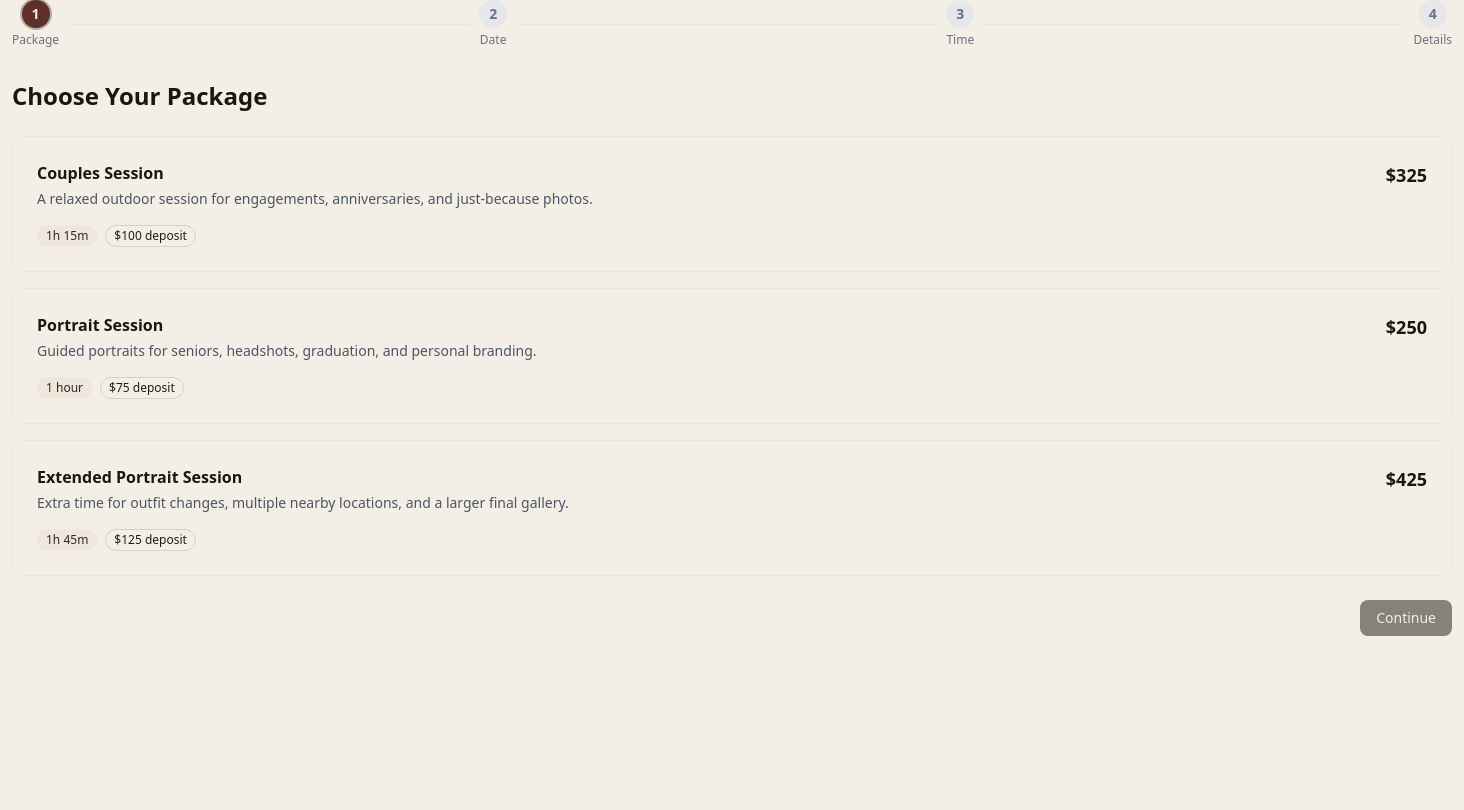
Scenario: PhotographyBookingForm — PHOTO-03: multi-step booking flow › advances from step 3 to step 4 (details) when a time slot is selected
Click the heading "Portrait Session": (100, 325) [37,314,163,336]
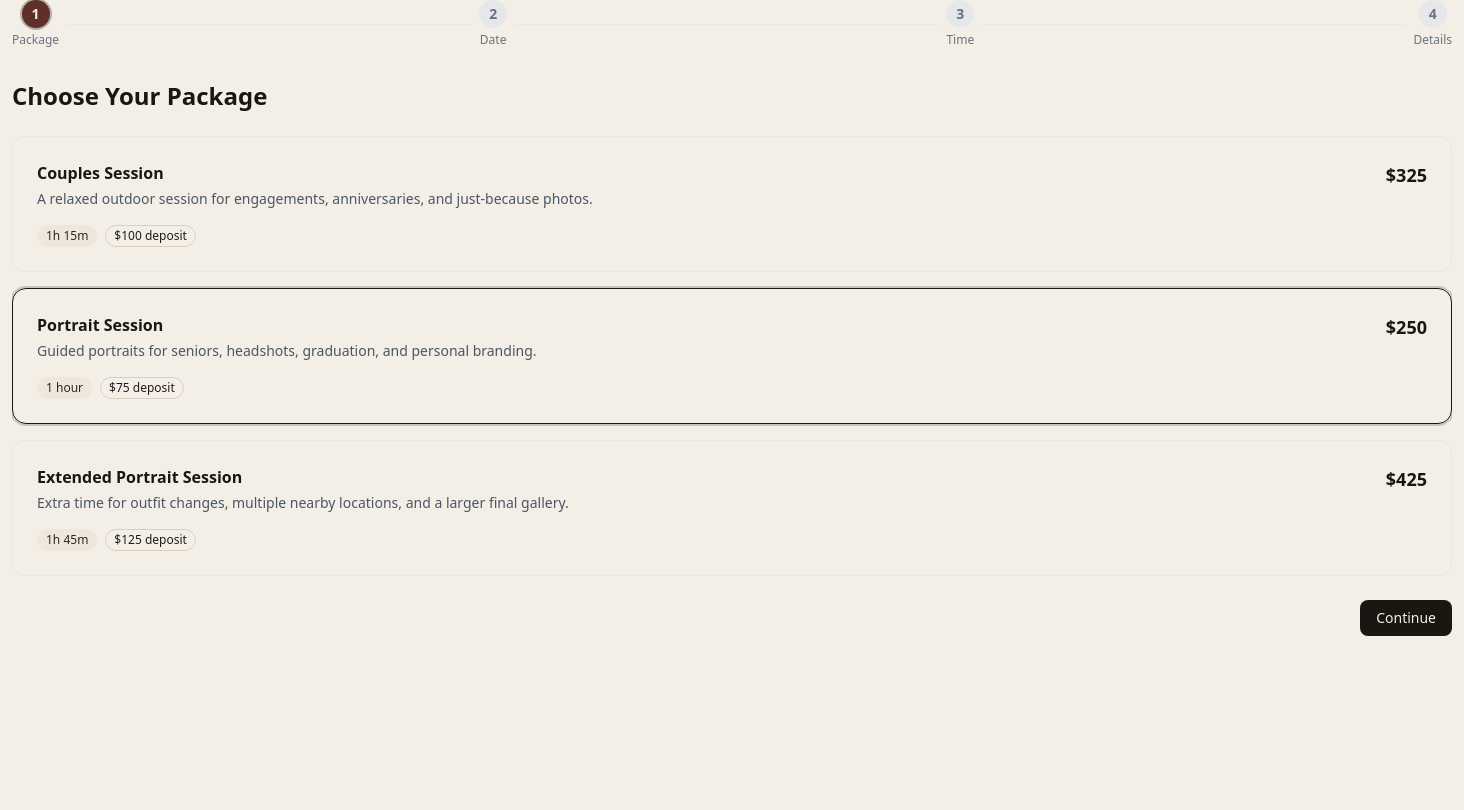
Click the button "Continue": (1406, 618) [1360,600,1452,636]
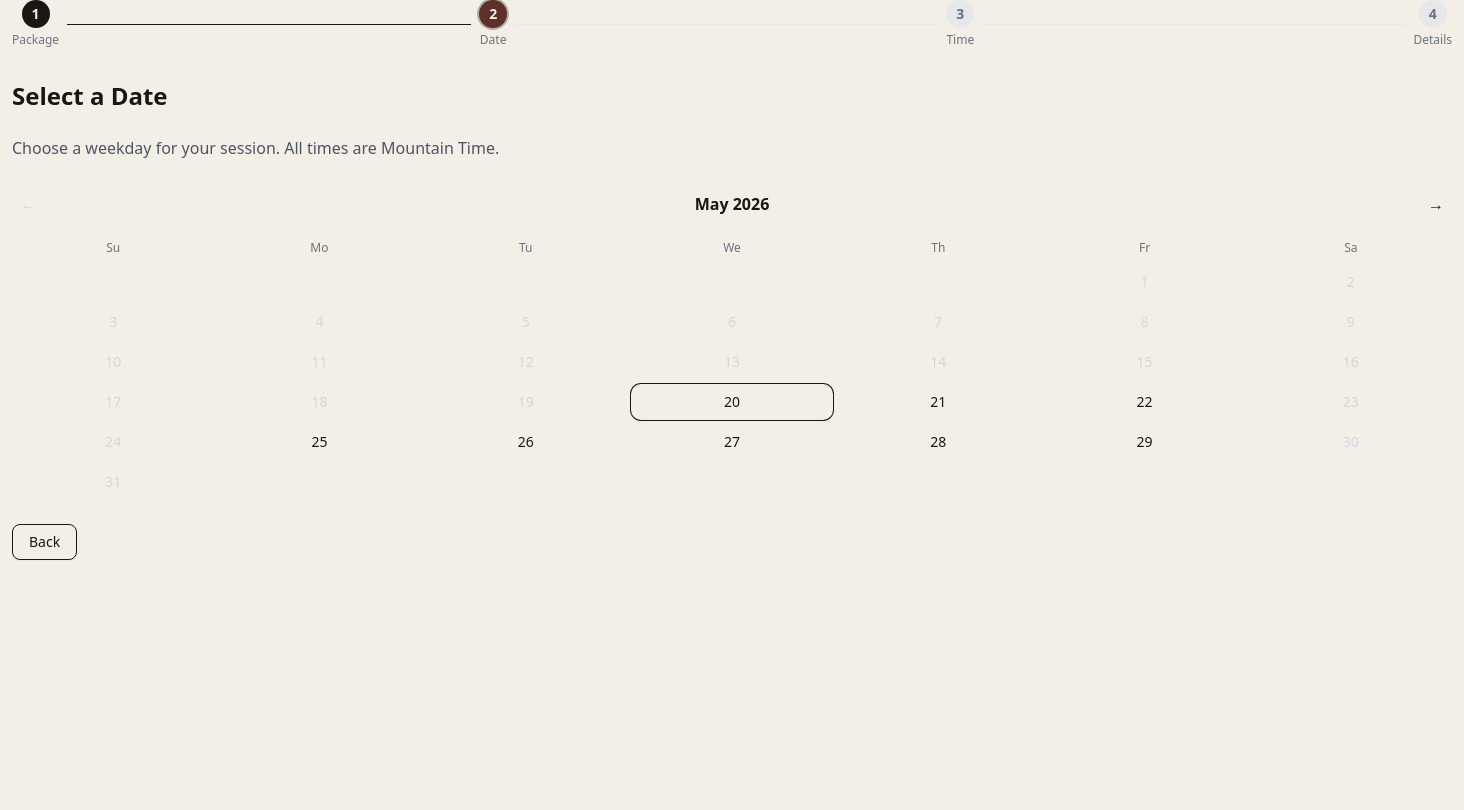
Click the button "20": (732, 402) [631,384,833,420]
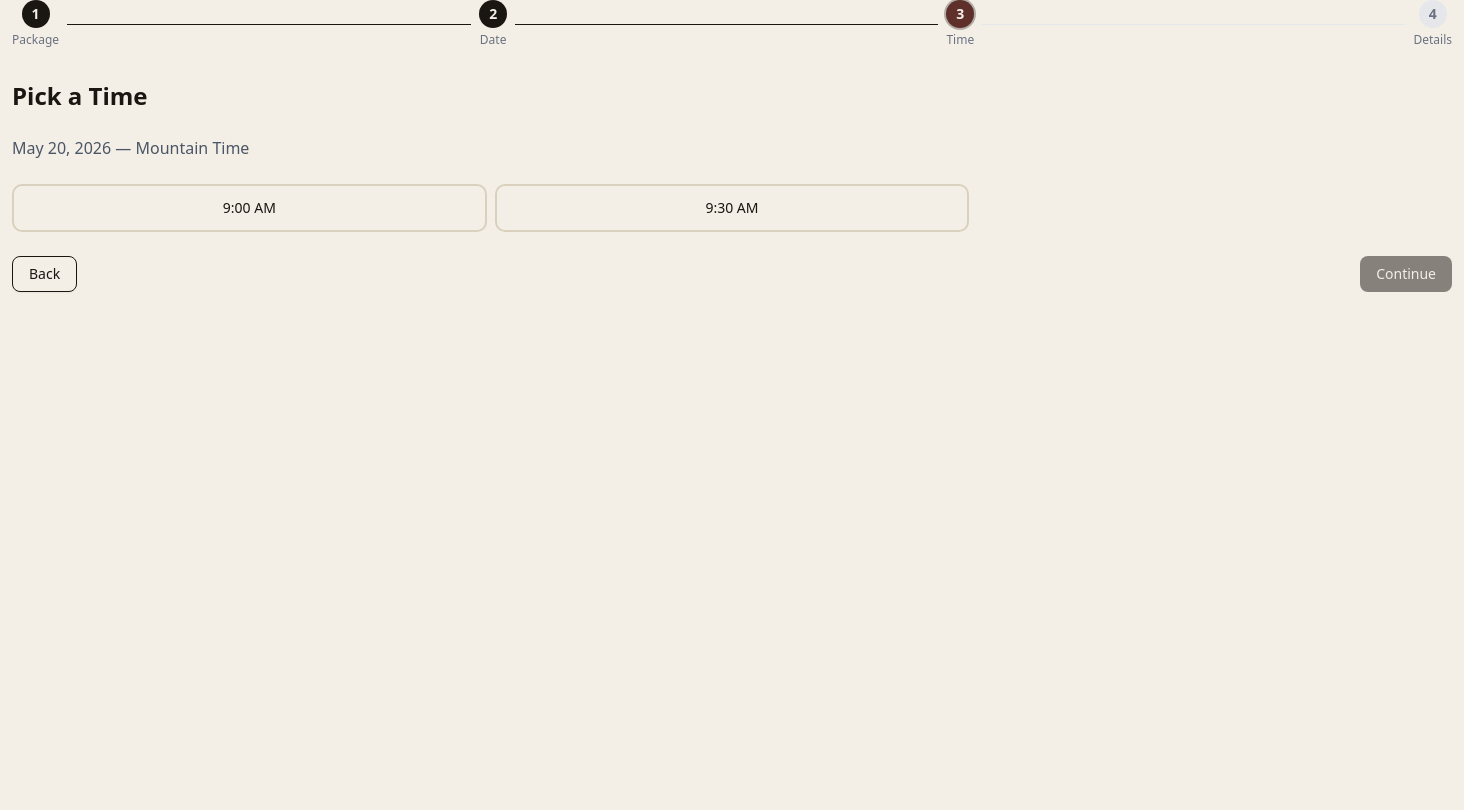
Click the button "9:00 AM": (249, 208) [12,184,487,232]
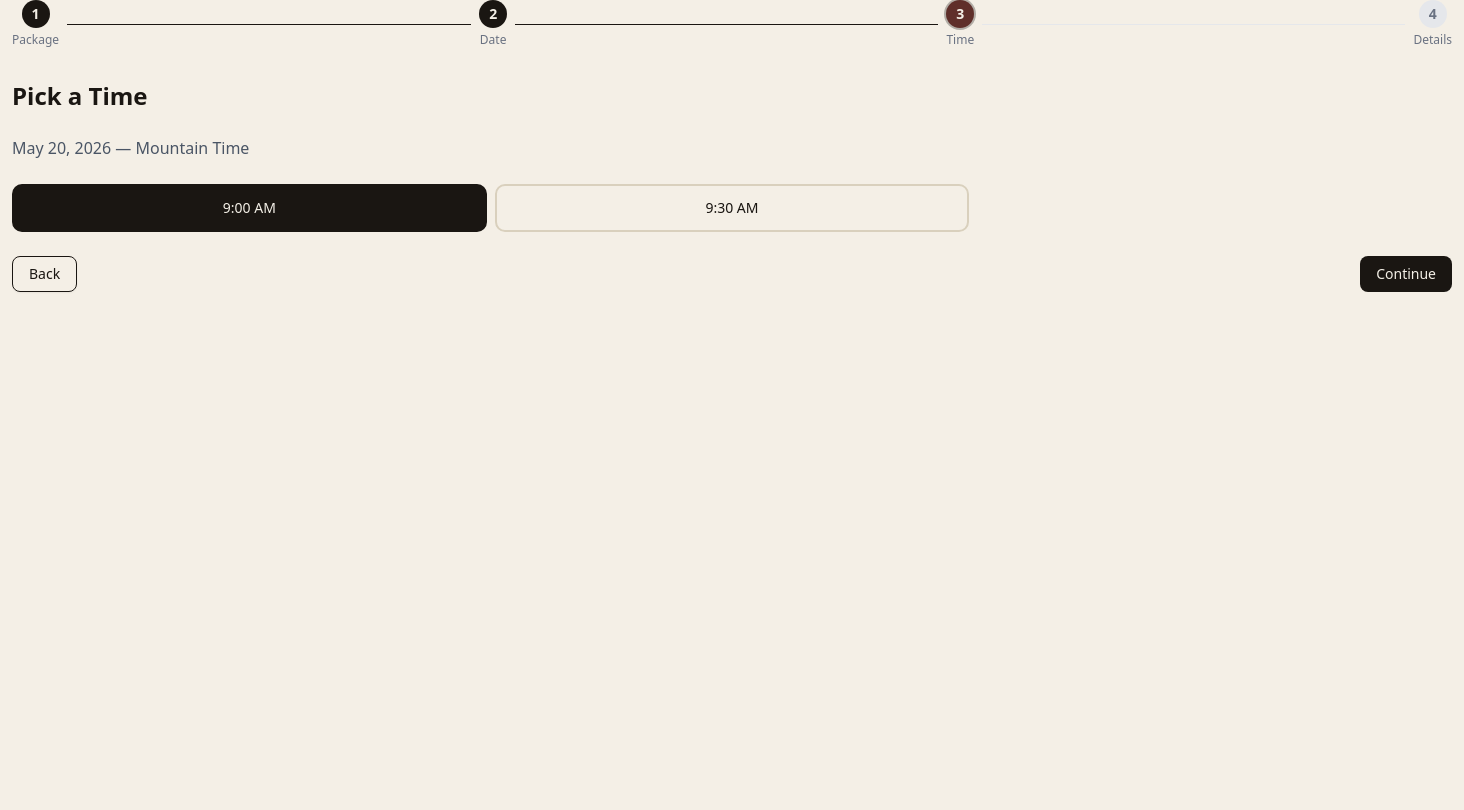
Check: the button "Continue" is enabled
Click the button "Continue": (1406, 274) [1360,256,1452,292]
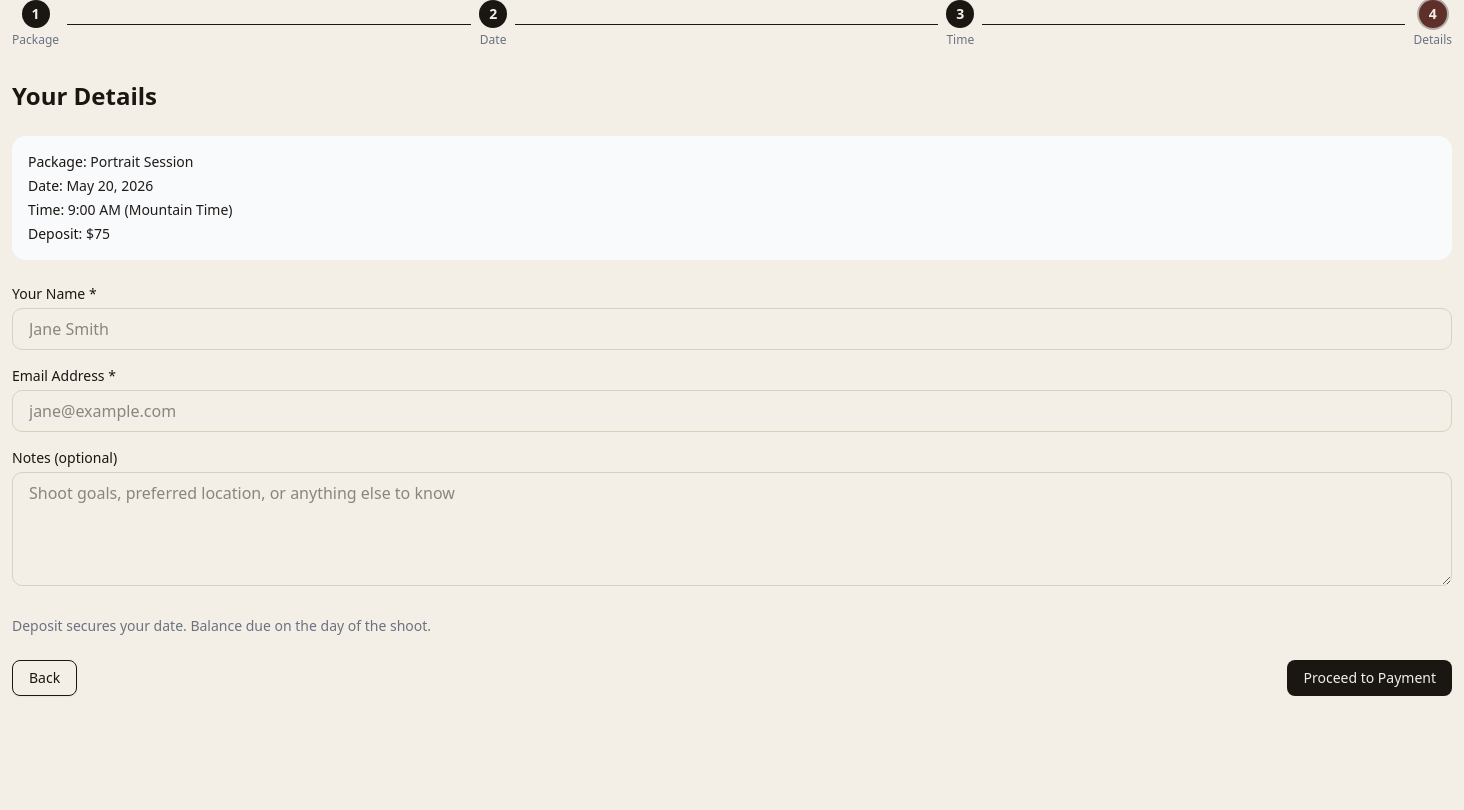
Check: the heading "Your Details" is shown, box [12,79,157,112]
